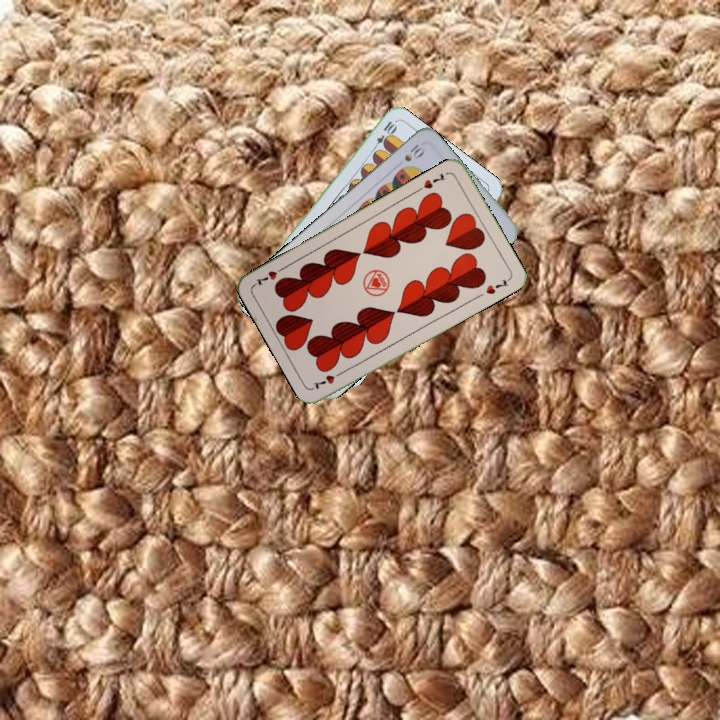E10: (368, 117, 398, 154)
H7: (309, 366, 347, 392), (419, 169, 448, 191)
S10: (400, 140, 427, 164)
